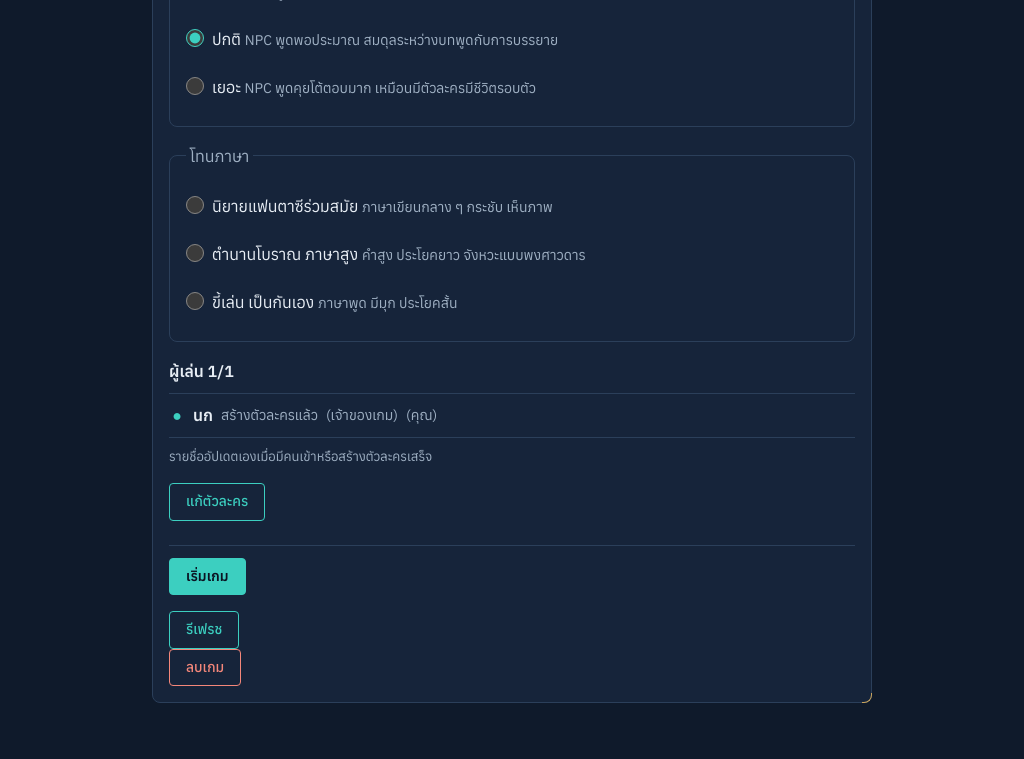
Test case: Character loot step (GEN-048) › C4: a refusal from the server is shown
(page scrolled)
Step 1. Click the button "แก้ตัวละคร" → (217, 502), box x1=169 y1=483 x2=265 y2=521
(page scrolled)
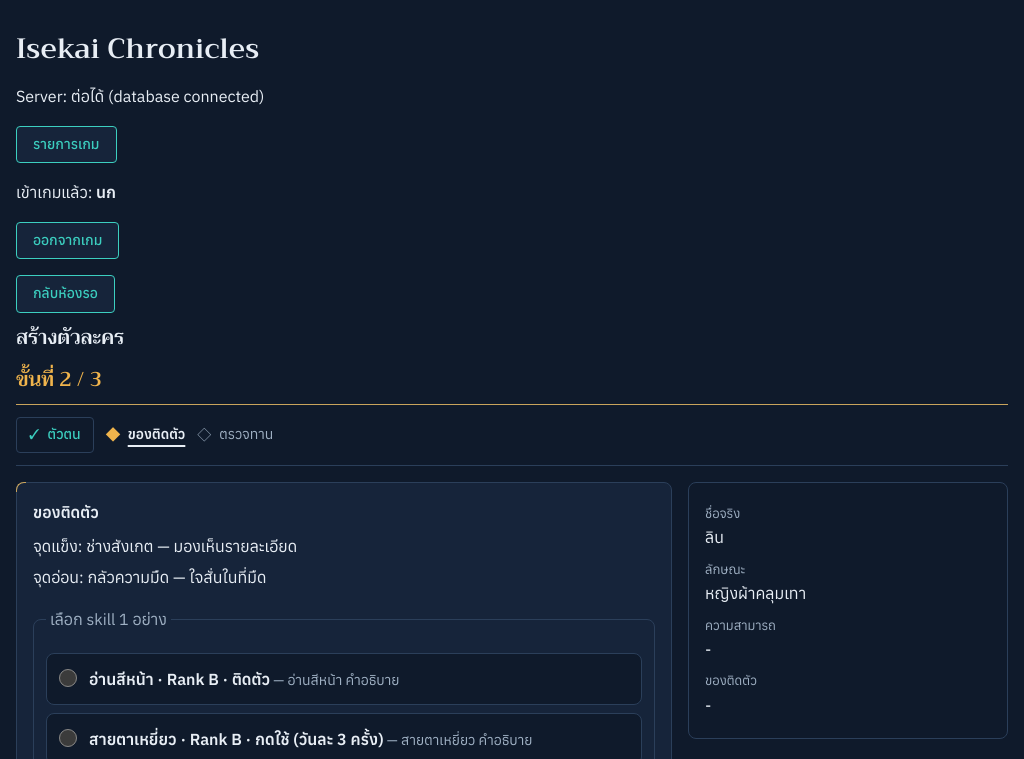
Step 2. Click the radio button labelled "อ่านสีหน้า · Rank B · ติดตัว — อ่านสีหน้า คำอธิบาย" → (68, 678), box x1=59 y1=668 x2=77 y2=686
(page scrolled)
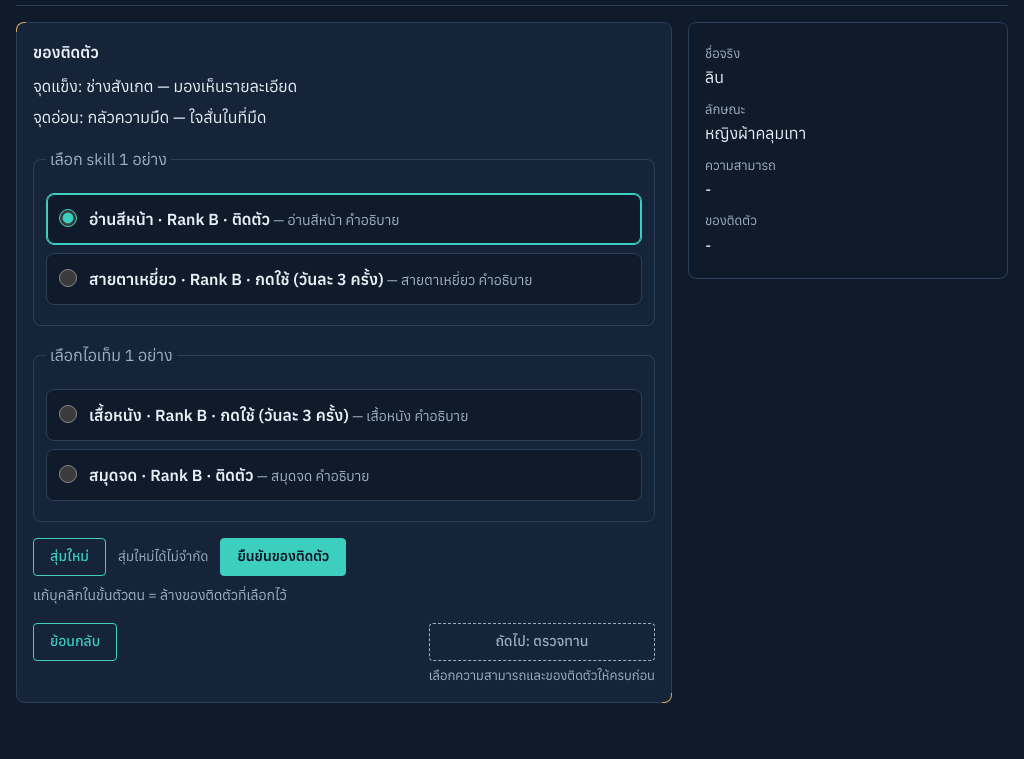
Step 3. Click the radio button labelled "เสื้อหนัง" → (68, 414), box x1=59 y1=405 x2=77 y2=423
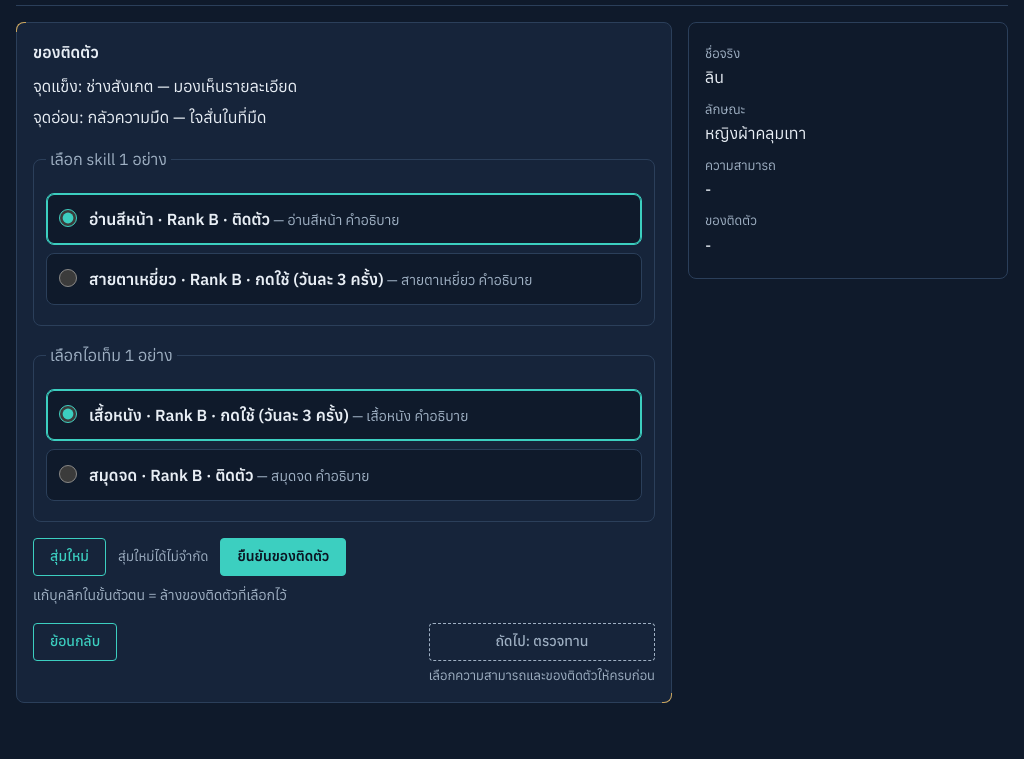
Step 4. Click the button "ยืนยันของติดตัว" → (283, 557), box x1=220 y1=538 x2=346 y2=576
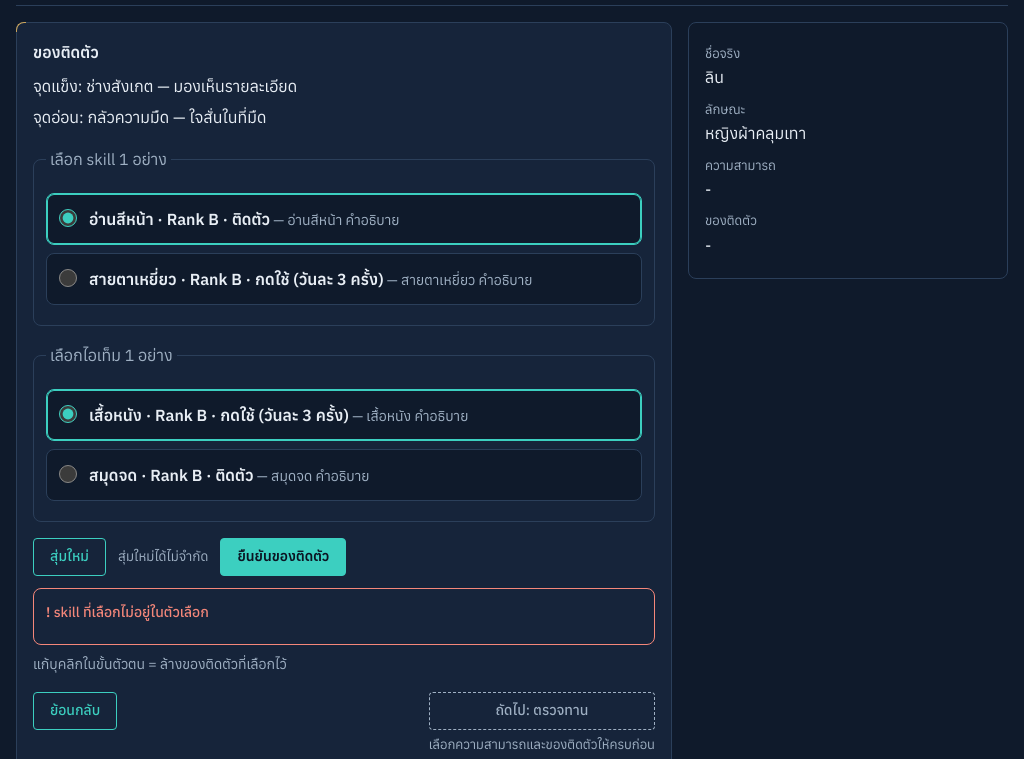
Expected: the message reads "skill ที่เลือกไม่อยู่ในตัวเลือก", x1=54 y1=603 x2=209 y2=621
